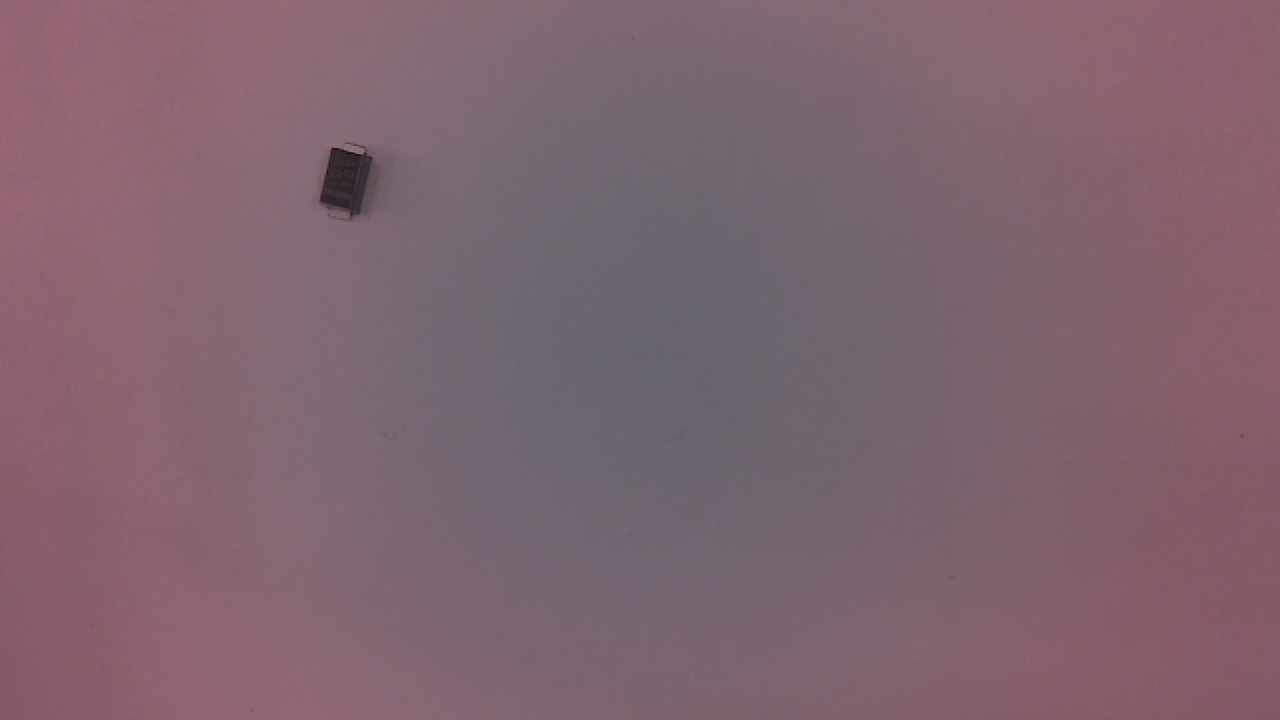Diode: (321, 144, 382, 227)
